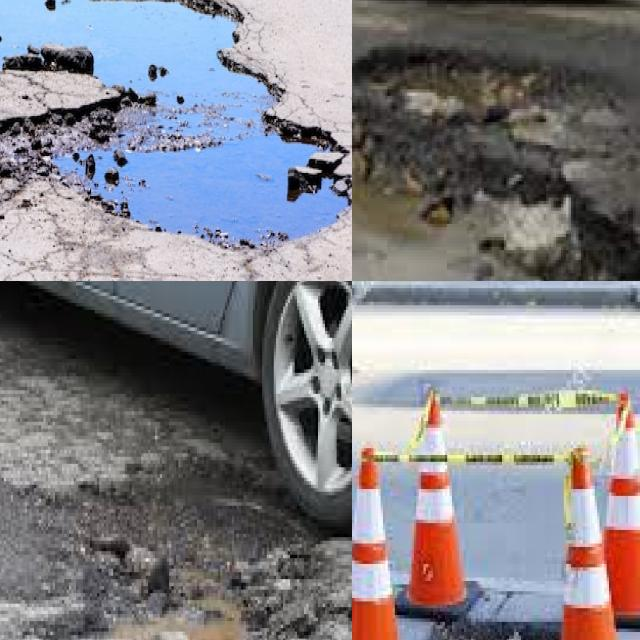Pothole: (85, 450, 330, 640), (352, 47, 546, 125), (421, 618, 559, 640)
